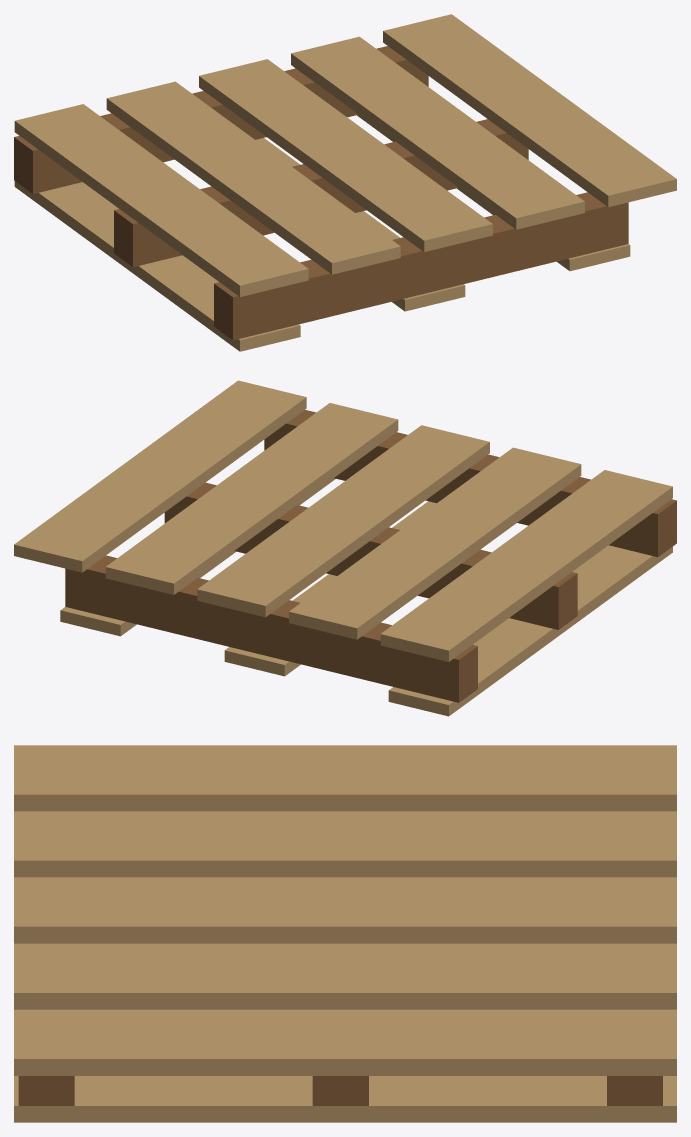
The model's file is SM_Prop_Pallet_01.glb.
3 views of the same model, one above another, from view 1: azimuth 30°, elevation 25°; view 2: azimuth 150°, elevation 25°; view 3: azimuth 270°, elevation 25° (orthographic). The views are drawn at different scales.
Parts seen in each view (by area): view 1: SM_Prop_Pallet_01; view 2: SM_Prop_Pallet_01; view 3: SM_Prop_Pallet_01.
Boxes of the visible parts, <box> form: SM_Prop_Pallet_01: <box>14,14,676,351</box>; SM_Prop_Pallet_01: <box>14,380,676,716</box>; SM_Prop_Pallet_01: <box>14,745,676,1122</box>.
Bounding box in the file's own units: 1.61 × 0.23 × 1.42.
Materials: 1 (1 with a texture image).
